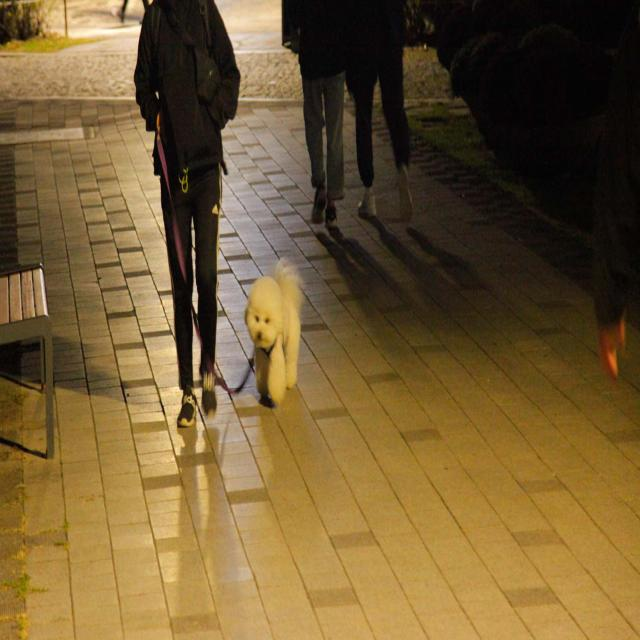Leashed_Dog: (156, 114, 303, 408)
